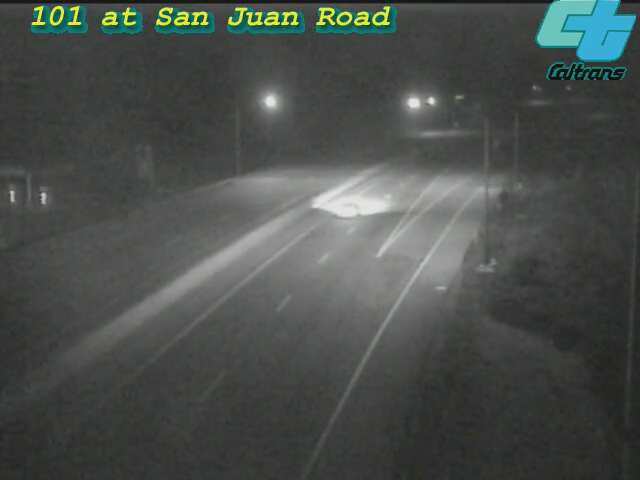vehicle: (309, 168, 389, 248)
